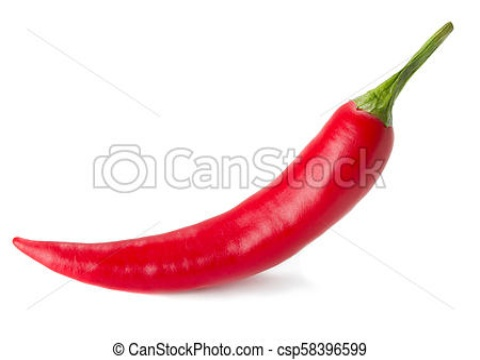Chilli: (9, 74, 457, 303)
